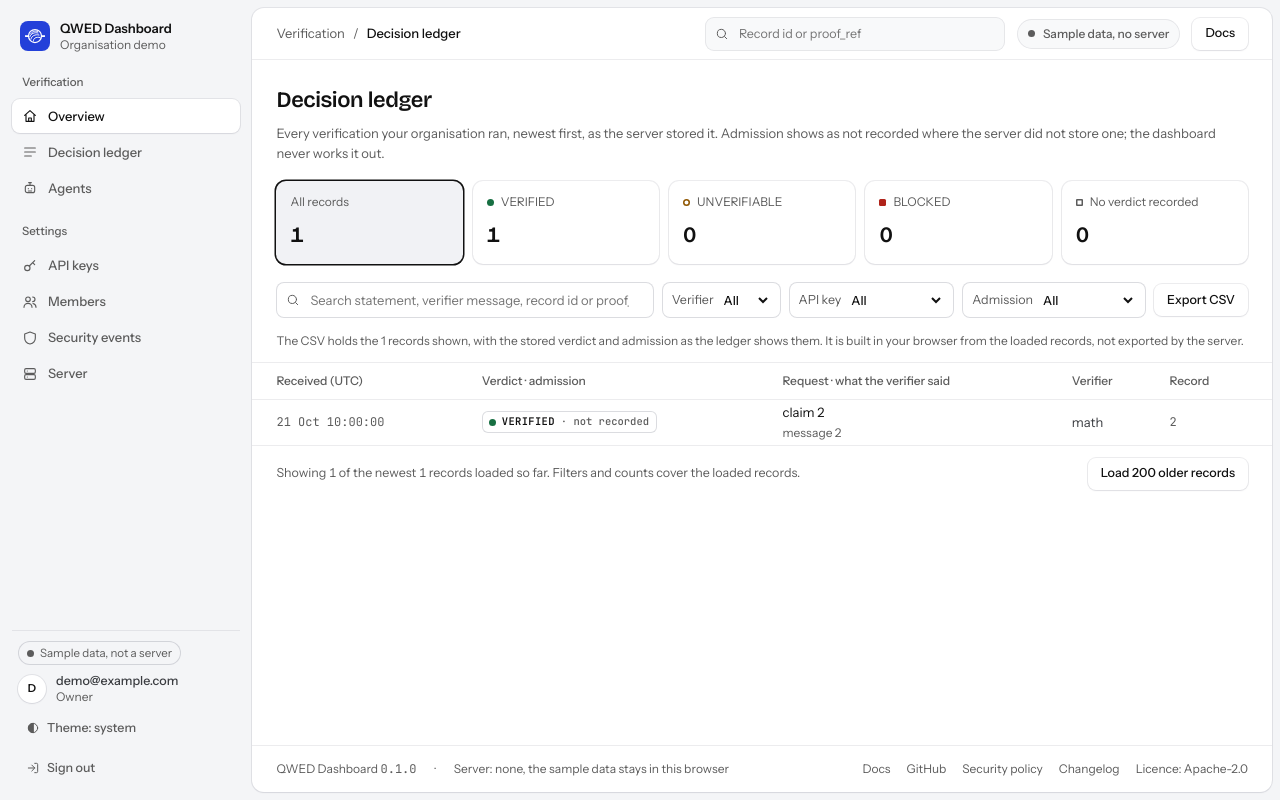
it: LedgerPage › keeps the loaded records when older ones cannot be loaded
The width and height of the screenshot is (1280, 800).
Click the button "Load 200 older records". click: click(1168, 474)
box: 1088,458 -> 1248,490
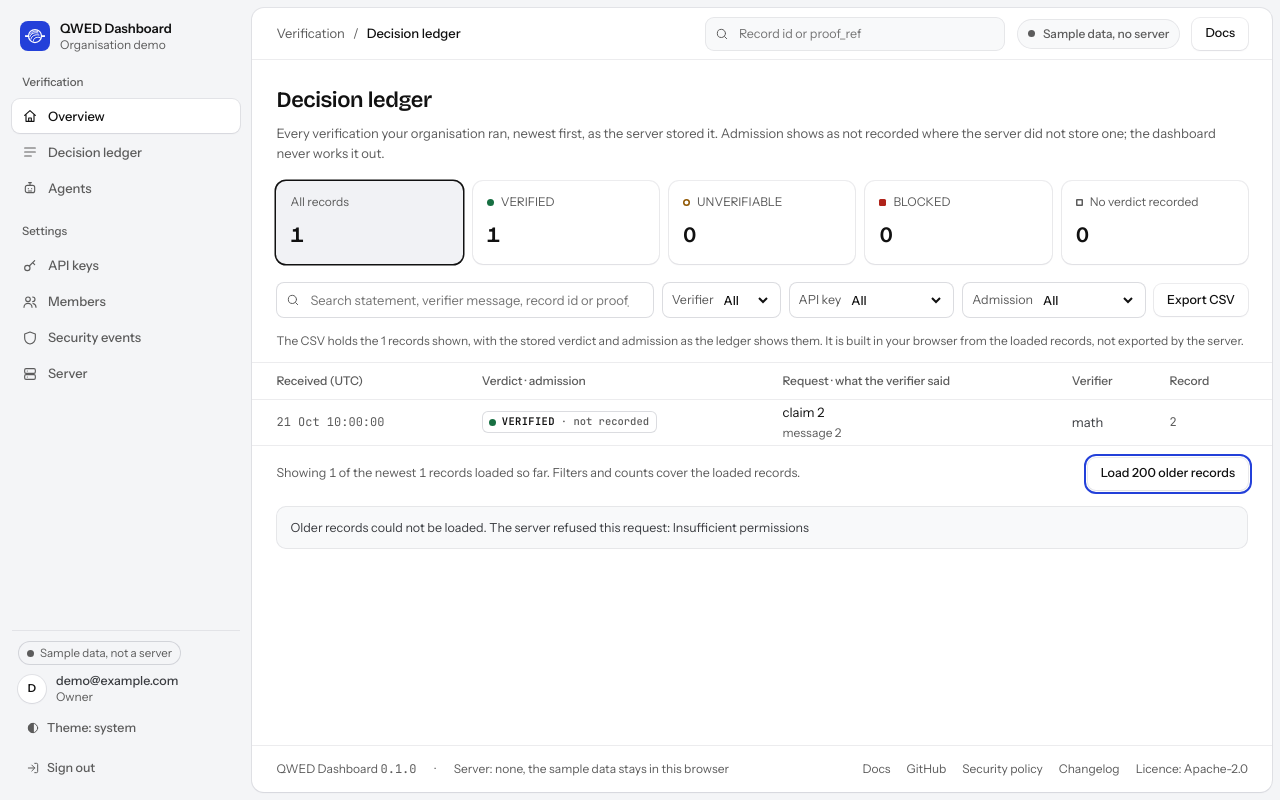
Expected: the link "claim 2" is shown, 782,404 -> 824,420
Result: the message shows "Older records could not be loaded" at 290,520 -> 489,535
